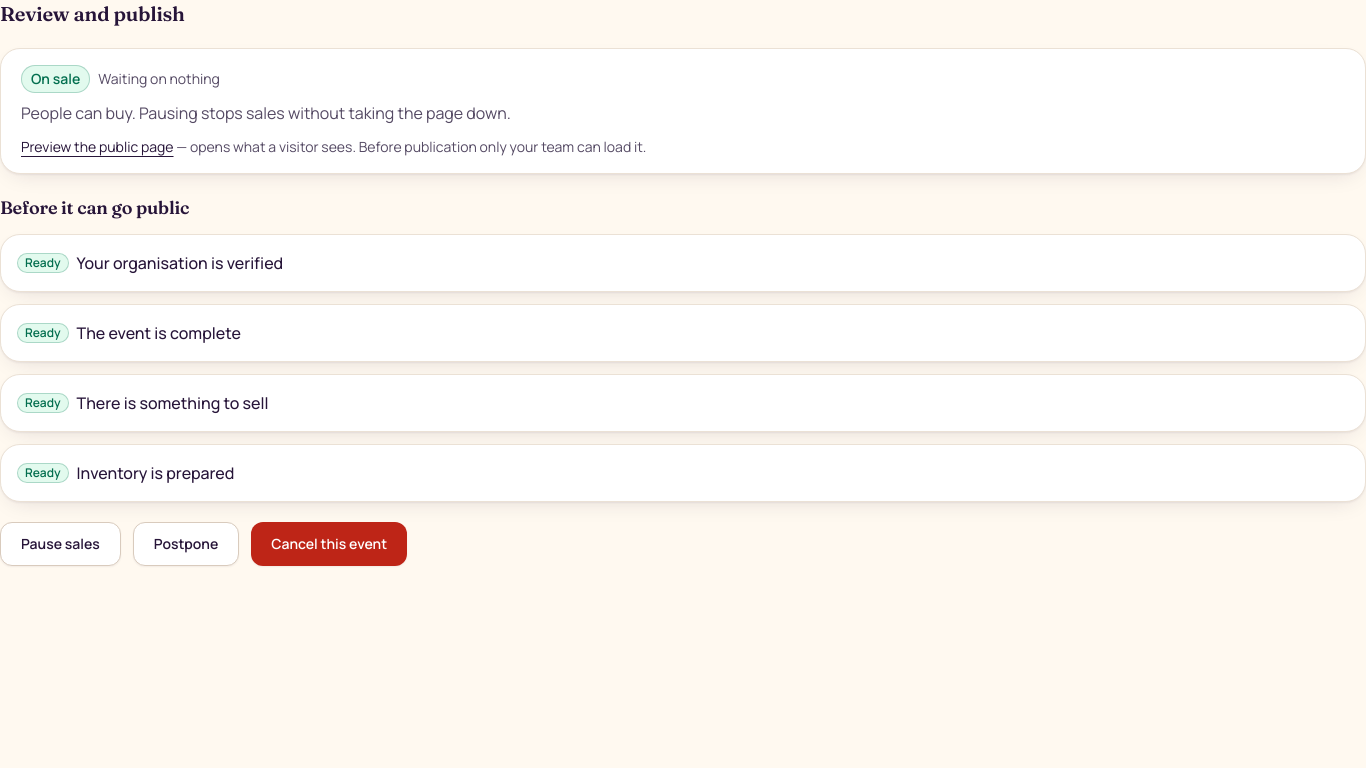
it: cancelling an event › says a refund is requested, not paid
Click the button "Cancel this event".
click(329, 544)  # box x1=251 y1=522 x2=407 y2=566
(page scrolled)
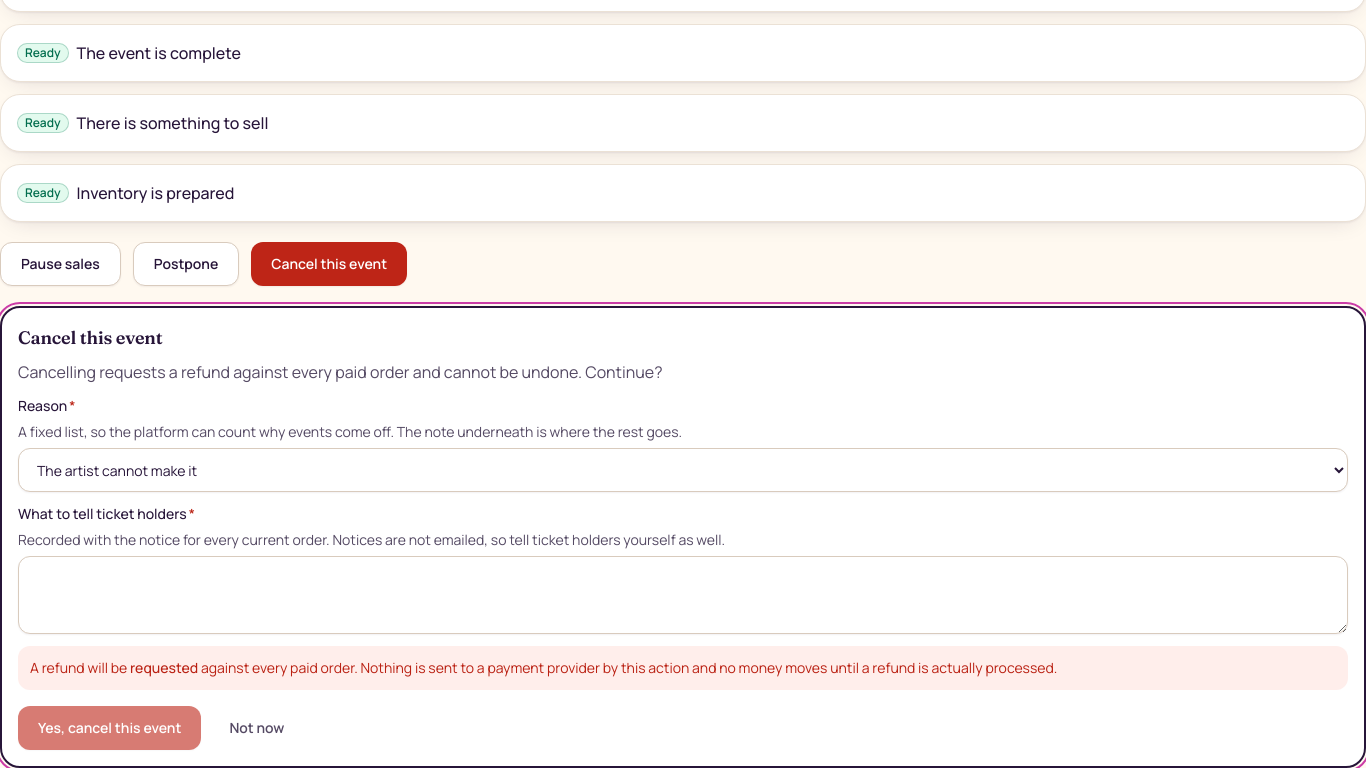
Expected: the text "nothing is sent to a payment provider" is shown, x1=198 y1=658 x2=1057 y2=677
